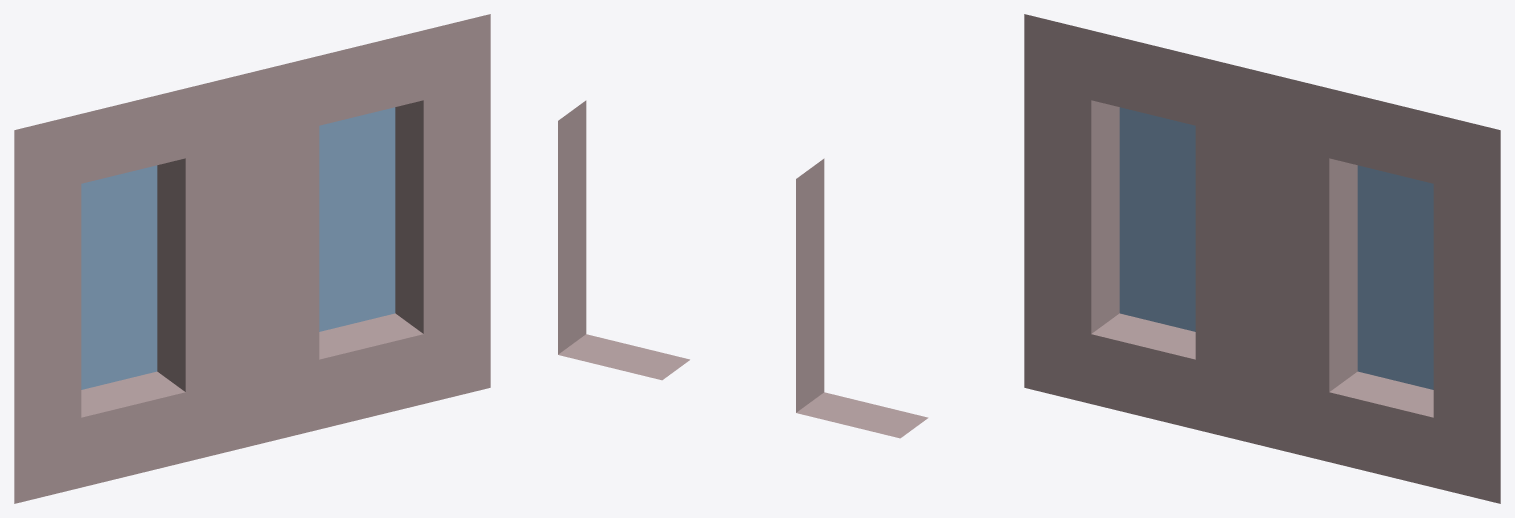
File: wall_1.glb
3 renders of one model, left to right at view 1: azimuth 30°, elevation 25°; view 2: azimuth 150°, elevation 25°; view 3: azimuth 330°, elevation 25°, orthographic.
Visible parts, largest first — view 1: H_a_b_0; view 2: H_a_b_0; view 3: H_a_b_0.
Part boxes in pixels (x1=…): H_a_b_0: x1=14, y1=14, x2=490, y2=503; H_a_b_0: x1=558, y1=100, x2=928, y2=438; H_a_b_0: x1=1024, y1=14, x2=1500, y2=503.
Bounding box in the file's own units: 1 × 0.75 × 0.1031.
